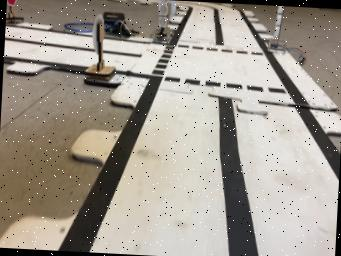street: (58, 7, 340, 256), (58, 7, 340, 256), (58, 7, 340, 256), (3, 24, 98, 69), (3, 24, 98, 69), (3, 24, 98, 69)
traffic_light: (151, 0, 171, 38), (151, 0, 171, 38), (151, 0, 171, 38), (267, 5, 283, 51), (267, 5, 283, 51), (267, 5, 283, 51), (283, 38, 287, 53), (283, 38, 287, 53), (283, 38, 287, 53)
